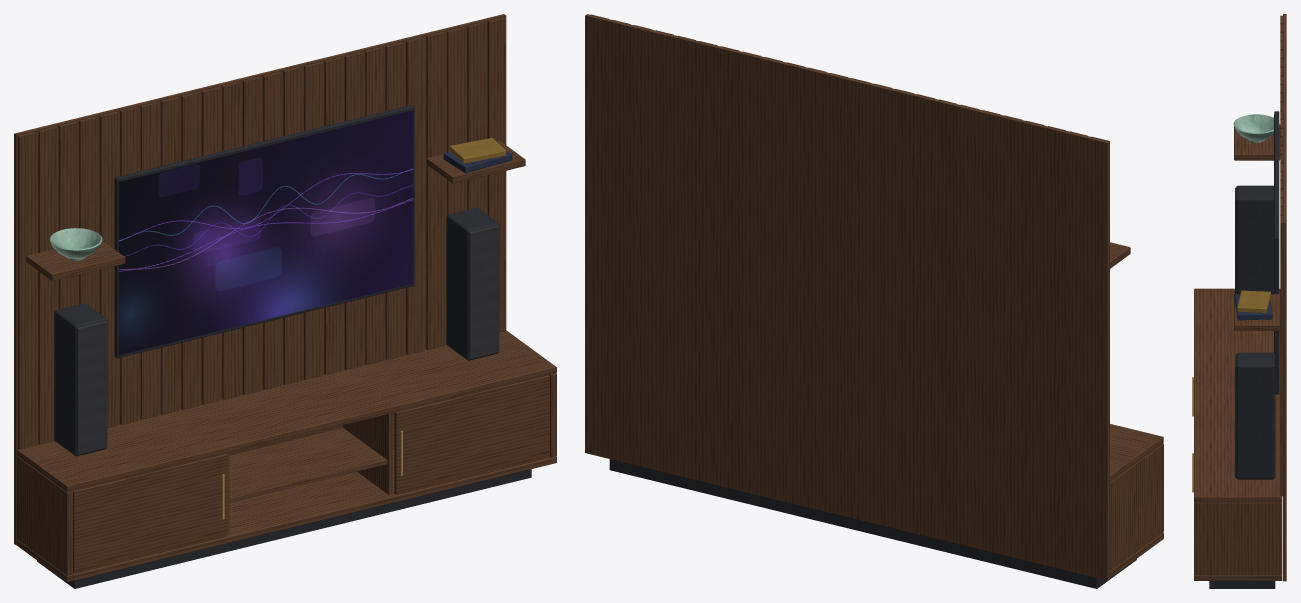
Rendered from media_wall.glb.
3 renders of one model, left to right at view 1: azimuth 30°, elevation 25°; view 2: azimuth 150°, elevation 25°; view 3: azimuth 270°, elevation 25°, orthographic. The views are drawn at different scales.
Parts seen in each view (by area): view 1: screen_screen_1, credenza_wood_walnut_0, credenza_wood_walnut_10, door_l_wood_walnut_0, door_r_wood_walnut_0, credenza_wood_walnut_1, credenza_wood_walnut_7, credenza_wood_walnut_11, credenza_wood_walnut_31, credenza_wood_walnut_12, credenza_wood_walnut_2, credenza_wood_walnut_30 (+31 smaller); view 2: credenza_wood_walnut_10, credenza_graphite_8, credenza_wood_walnut_2, credenza_wood_walnut_0; view 3: credenza_wood_walnut_0, credenza_wood_walnut_3, speaker_l_graphite_0, speaker_r_graphite_0, credenza_wood_walnut_10, screen_graphite_0, shelf_r_wood_walnut_0, bowl_celadon_0, credenza_wood_walnut_34, shelf_l_wood_walnut_0, shelf_l_fabric_ochre_2, credenza_graphite_8 (+5 smaller).
Part boxes in pixels (bbox=[...]): screen_screen_1: bbox=[119, 110, 413, 355]; credenza_wood_walnut_0: bbox=[16, 330, 556, 492]; credenza_wood_walnut_10: bbox=[14, 14, 506, 545]; door_l_wood_walnut_0: bbox=[394, 375, 549, 494]; door_r_wood_walnut_0: bbox=[73, 454, 227, 573]; credenza_wood_walnut_1: bbox=[16, 449, 556, 582]; credenza_wood_walnut_7: bbox=[229, 428, 387, 502]; credenza_wood_walnut_11: bbox=[18, 131, 36, 449]; credenza_wood_walnut_31: bbox=[426, 32, 444, 350]; credenza_wood_walnut_12: bbox=[38, 127, 56, 444]; credenza_wood_walnut_2: bbox=[16, 456, 72, 575]; credenza_wood_walnut_30: bbox=[406, 37, 424, 355]; credenza_wood_walnut_10: bbox=[585, 14, 1109, 580]; credenza_graphite_8: bbox=[609, 459, 1136, 588]; credenza_wood_walnut_2: bbox=[1110, 443, 1163, 571]; credenza_wood_walnut_0: bbox=[1110, 424, 1163, 482]; credenza_wood_walnut_0: bbox=[1194, 288, 1282, 502]; credenza_wood_walnut_3: bbox=[1194, 502, 1282, 575]; speaker_l_graphite_0: bbox=[1236, 352, 1275, 479]; speaker_r_graphite_0: bbox=[1236, 185, 1273, 294]; credenza_wood_walnut_10: bbox=[1283, 14, 1286, 581]; screen_graphite_0: bbox=[1274, 111, 1279, 394]; shelf_r_wood_walnut_0: bbox=[1234, 124, 1280, 160]; bowl_celadon_0: bbox=[1233, 114, 1279, 142]; credenza_wood_walnut_34: bbox=[1280, 216, 1282, 496]; shelf_l_wood_walnut_0: bbox=[1234, 294, 1280, 330]; shelf_l_fabric_ochre_2: bbox=[1237, 290, 1270, 313]; credenza_graphite_8: bbox=[1209, 581, 1275, 588].
Size of what is drawn, in the model's own units: 2.4 by 2 by 0.457.
Materials: 16 (14 with a texture image).
